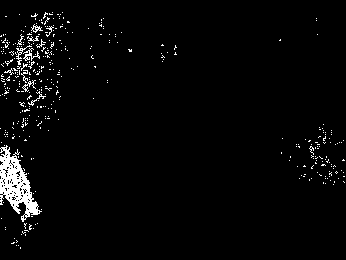person: (1, 143, 41, 231)
